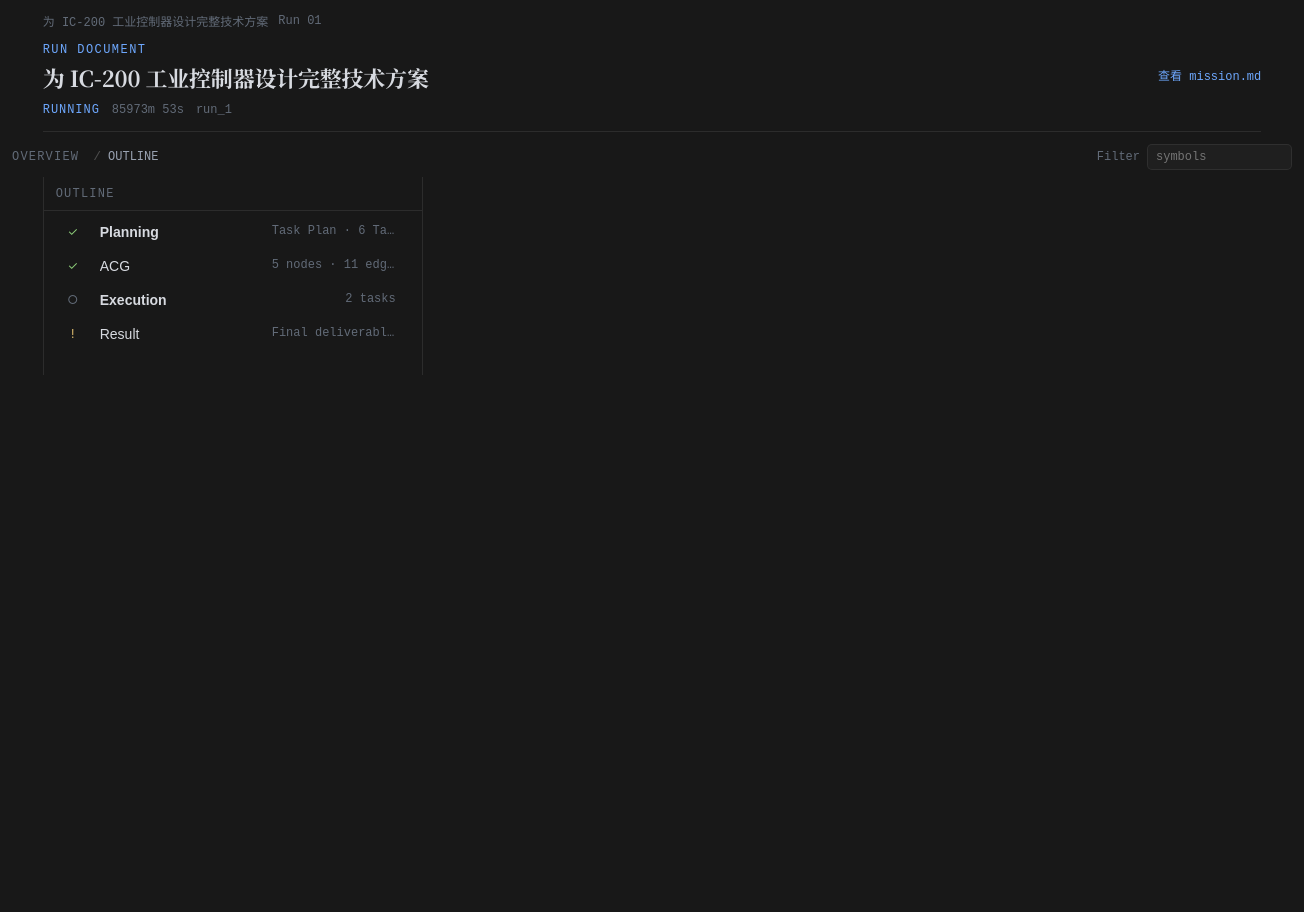
it: RunProgressEditor › returns to the selected parent column from the breadcrumb
Click the button with class "run-symbol__main" that starts with "Planning" at coordinates (129, 232), box [94,217,402,247]
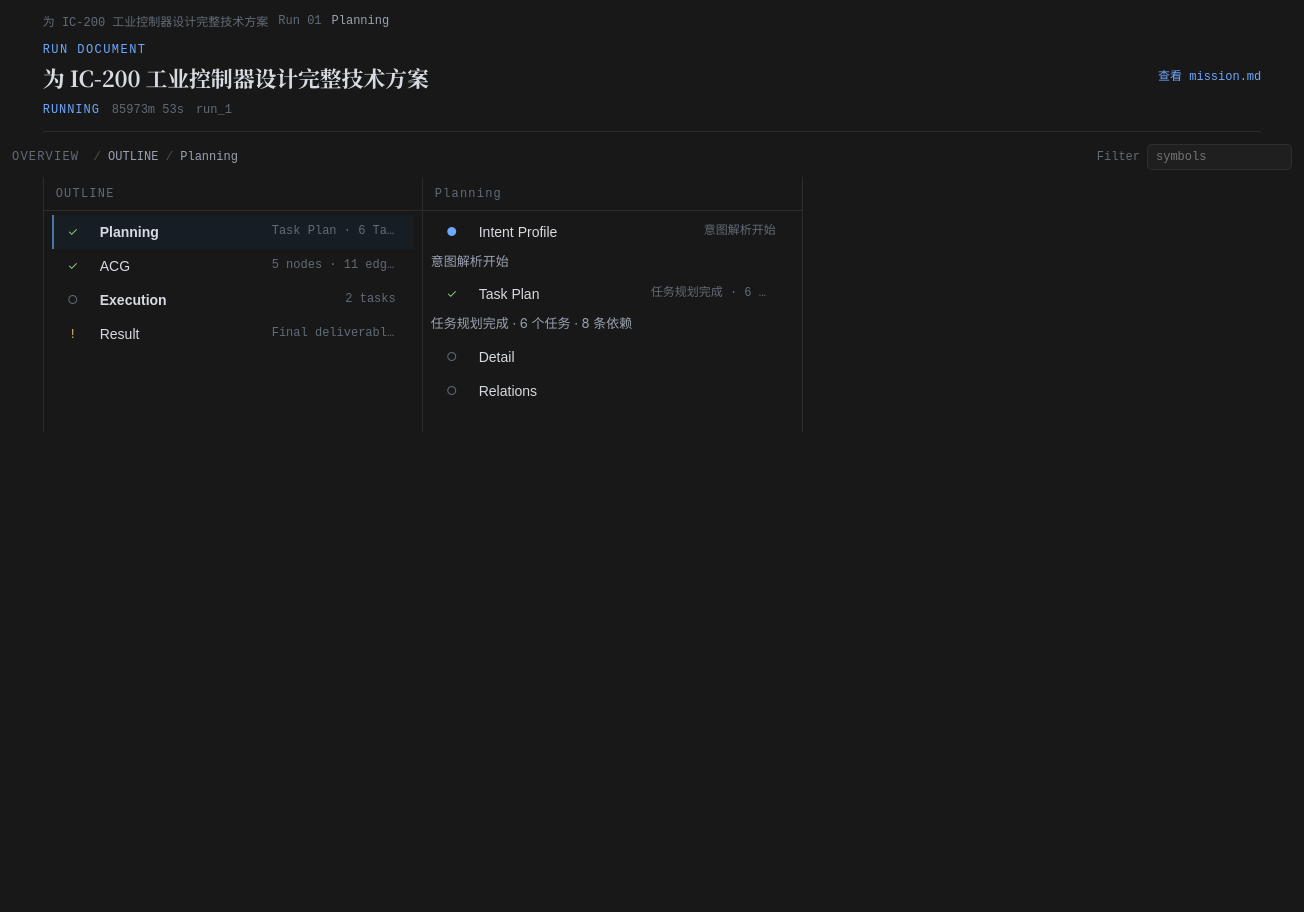
Click the button with class "run-symbol__main" that starts with "Task Plan" at coordinates (509, 294), box [473,279,782,309]
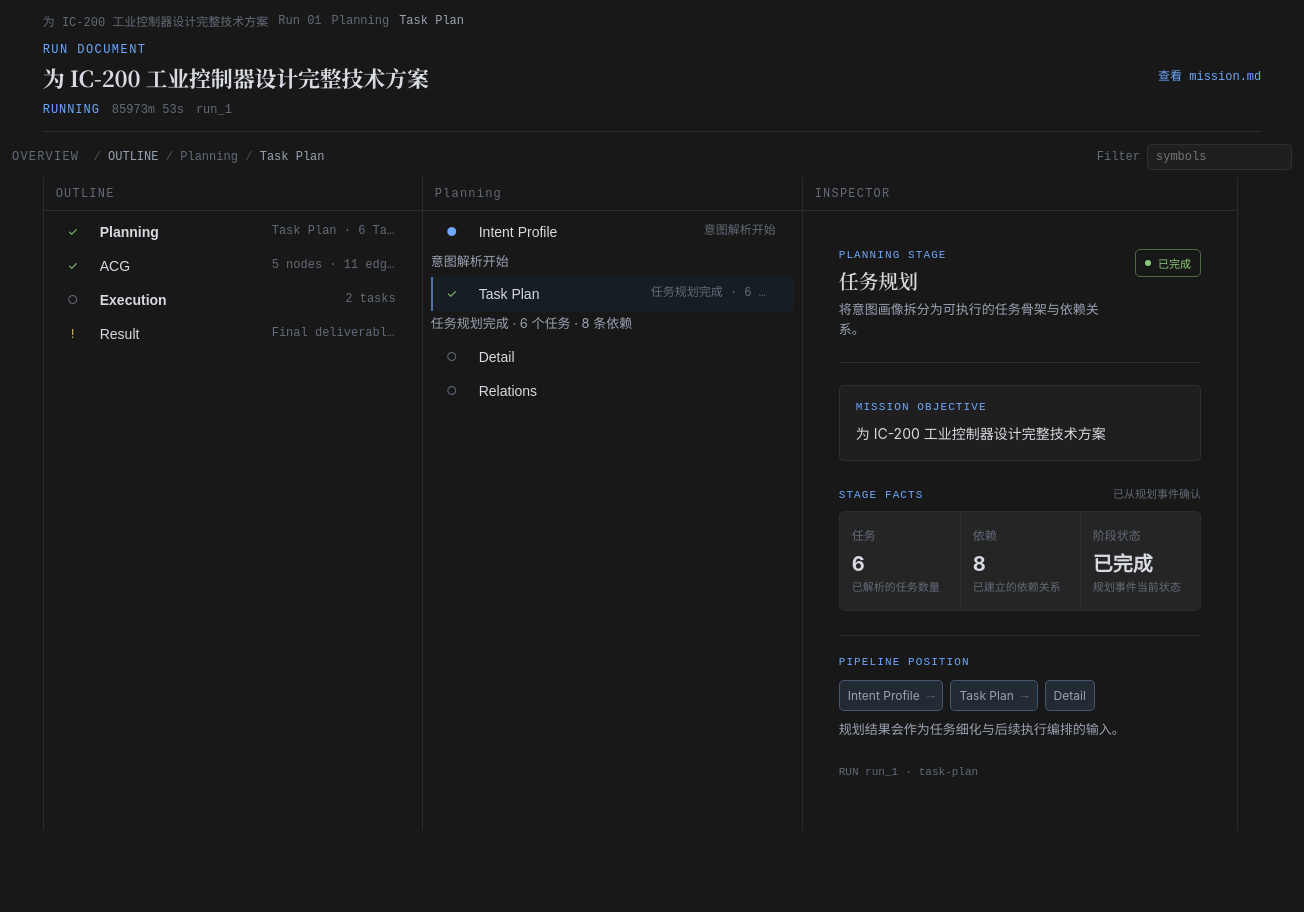
Result: the number of elements with class "run-progress__column" is 3 at [43,177,423,830]; [423,177,803,830]; [803,177,1238,830]
Click the button titled "Planning" in the row of "OVERVIEW" at coordinates (209, 157), box [180,148,238,166]
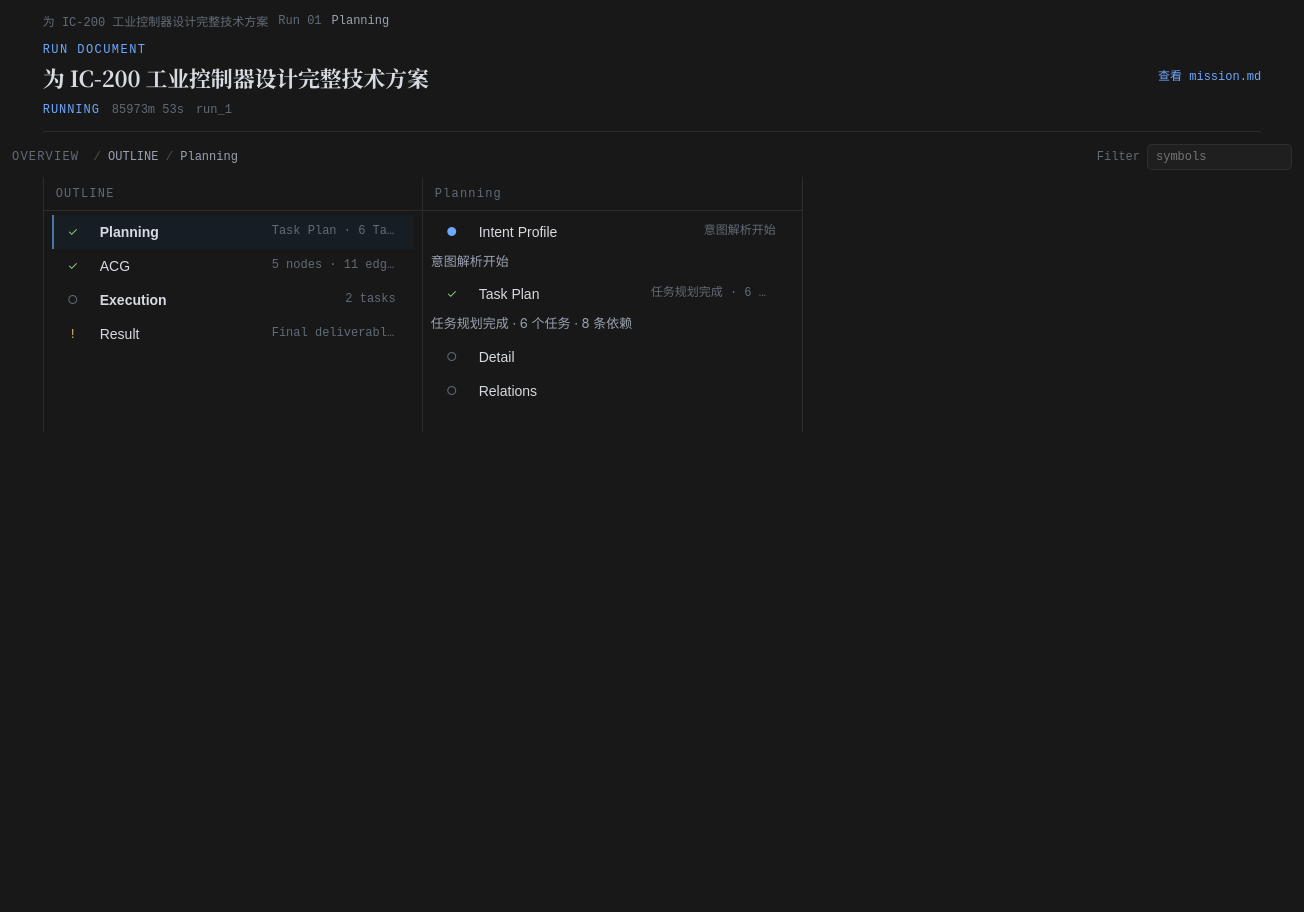
Result: the 1st text with class "run-progress__column-head" reads "Planning" at [435,187,502,201]
Result: the number of elements with class "run-progress__column" is 2 at [43,177,423,432]; [423,177,803,432]
